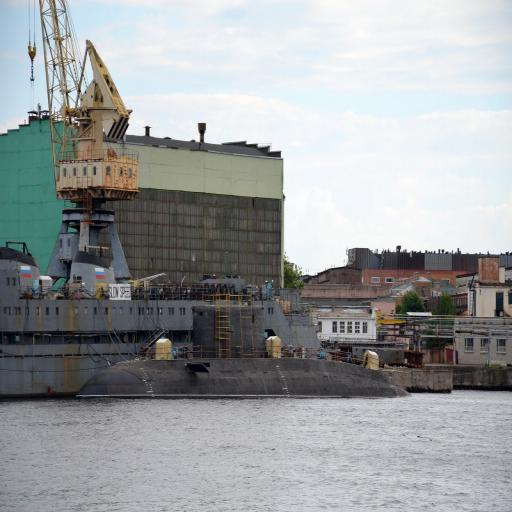submarine: (77, 304, 413, 398)
